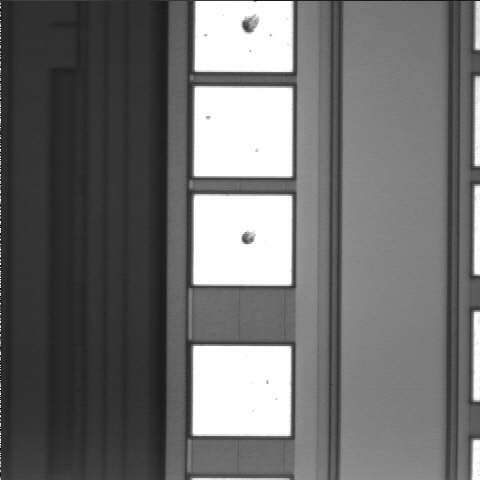pad: (193, 194, 292, 286), (194, 86, 292, 177), (193, 346, 291, 436)
